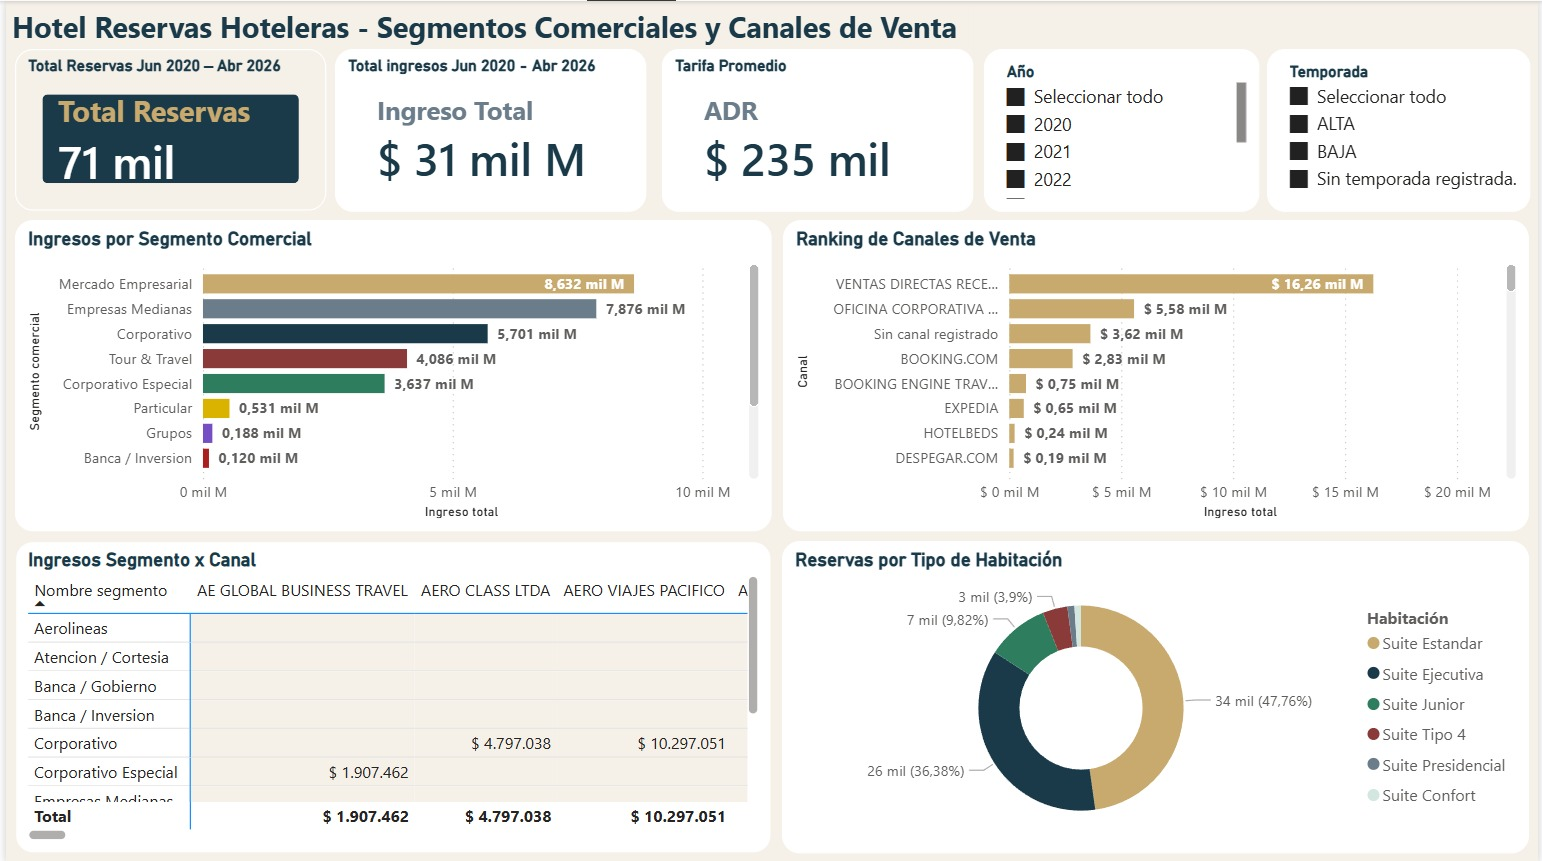

The dashboard page shown, as its layout file describes it:
{"tool":"powerbi","page":{"name":"SegmentosYCanales","canvas":[1280,720],"ordinal":2},"visuals":[{"type":"textbox","box":[0,0,807.8,45.2],"z":0},{"type":"clusteredBarChart","title":"Ingresos por Segmento Comercial","fields":{"Category":["dim_segmento.nombre_segmento"],"Y":["fact_reservas.Ingreso Total"]},"box":[7.8,183.3,632.2,260],"z":1000},{"type":"clusteredBarChart","title":"Ranking de Canales de Venta","fields":{"Category":["dim_canal.nombre_canal"],"Y":["fact_reservas.Ingreso Total"]},"box":[648.9,183.3,623.3,260],"z":2000},{"type":"pivotTable","title":"Ingresos Segmento x Canal","fields":{"Rows":["dim_segmento.nombre_segmento"],"Columns":["dim_canal.nombre_canal"],"Values":["fact_reservas.Ingreso Total"]},"box":[7.8,451.1,632.2,261.1],"z":3000},{"type":"donutChart","title":"Reservas por Tipo de Habitación","fields":{"Category":["dim_habitacion.nombre_tipo"],"Y":["fact_reservas.Total Reservas"]},"box":[647.8,451.1,624.4,261.1],"z":4000},{"type":"slicer","title":"Año","fields":{"Values":["dim_fecha.calendario.anio"]},"box":[816.7,40,230,135.6],"z":5000},{"type":"slicer","title":"Año","fields":{"Values":["dim_temporada.nombre_temporada"]},"box":[1053.3,40,220,135.6],"z":6000},{"type":"cardVisual","title":"Total Reservas Jun 2020 – Abr 2026","fields":{"Data":["fact_reservas.Total Reservas"]},"box":[7.8,40,260,135],"z":7000},{"type":"cardVisual","title":"Total ingresos Jun 2020 - Abr 2026","fields":{"Data":["fact_reservas.Ingreso Total"]},"box":[274.4,40,260,135.6],"z":8000},{"type":"cardVisual","title":"Tarifa Promedio","fields":{"Data":["fact_reservas.ADR"]},"box":[547.8,40,260,135.6],"z":9000}]}

Visuals, with their boxes in screenshot pixels (x1, y1, x2, y2), scaled from the page's 1280x720 canvas onto the 1542x861 screenshot:
textbox: [left=0, top=0, right=973, bottom=54]
"Ingresos por Segmento Comercial" clusteredBarChart: [left=9, top=219, right=771, bottom=530]
"Ranking de Canales de Venta" clusteredBarChart: [left=782, top=219, right=1533, bottom=530]
"Ingresos Segmento x Canal" pivotTable: [left=9, top=539, right=771, bottom=852]
"Reservas por Tipo de Habitación" donutChart: [left=780, top=539, right=1533, bottom=852]
"Año" slicer: [left=984, top=48, right=1261, bottom=210]
"Año" slicer: [left=1269, top=48, right=1534, bottom=210]
"Total Reservas Jun 2020 – Abr 2026" cardVisual: [left=9, top=48, right=323, bottom=209]
"Total ingresos Jun 2020 - Abr 2026" cardVisual: [left=331, top=48, right=644, bottom=210]
"Tarifa Promedio" cardVisual: [left=660, top=48, right=973, bottom=210]
